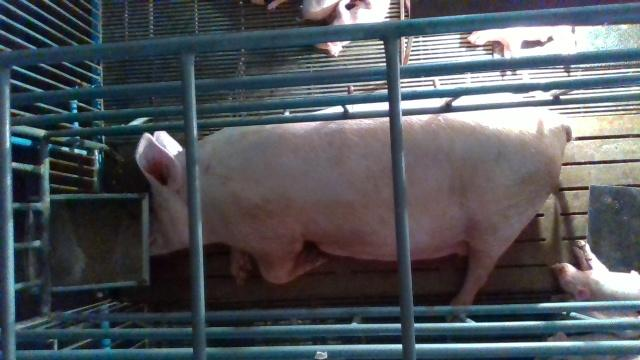piglet: (553, 240, 640, 303), (311, 0, 392, 56), (468, 25, 575, 59), (536, 331, 640, 360)
sow-sleep: (135, 82, 574, 307)
